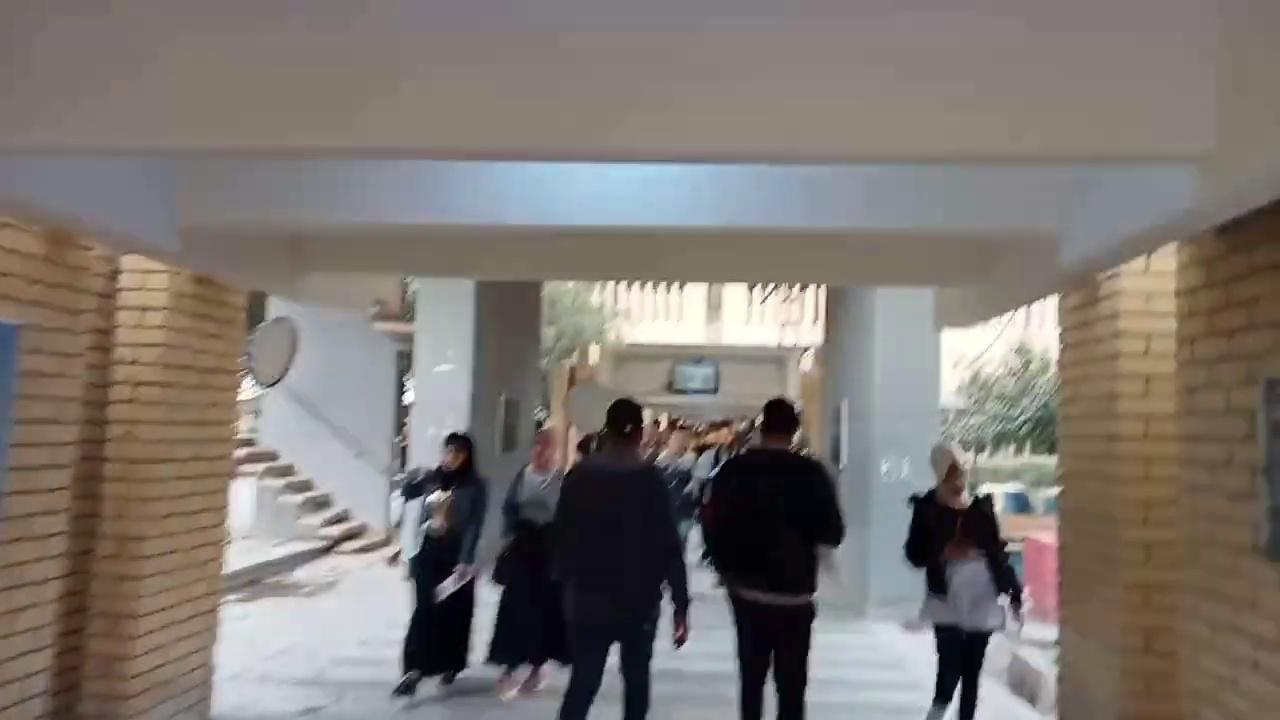person: (698, 396, 845, 719), (547, 397, 690, 719), (903, 441, 1023, 719), (388, 431, 487, 697), (487, 425, 569, 700)
tree: (938, 338, 1060, 462), (537, 281, 620, 372)
